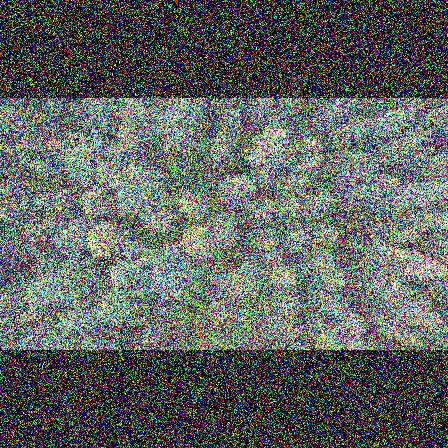Sick: (10, 132, 42, 158), (250, 163, 280, 190), (262, 105, 289, 130), (269, 150, 292, 174), (408, 128, 431, 152)
